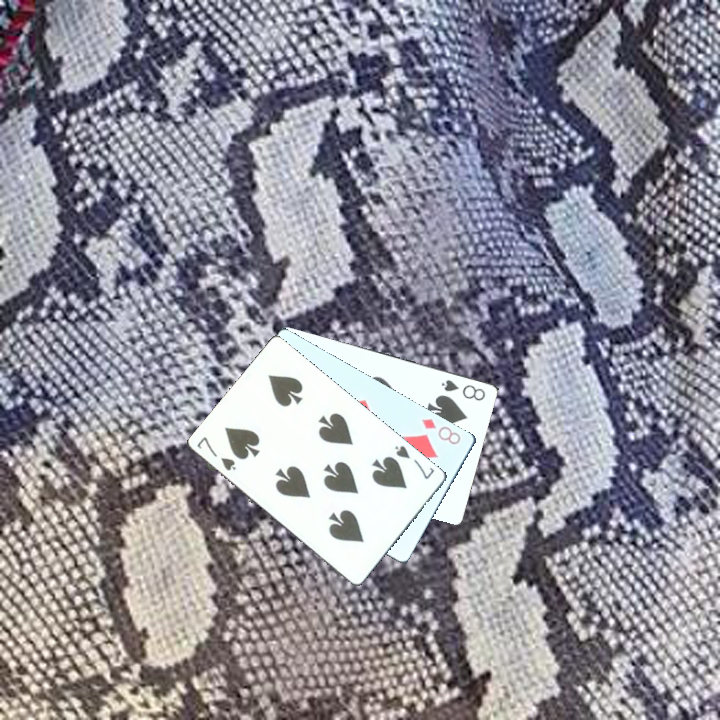7s: (392, 441, 437, 482), (193, 433, 238, 473)
8d: (417, 414, 463, 447)
8s: (437, 376, 488, 403)
